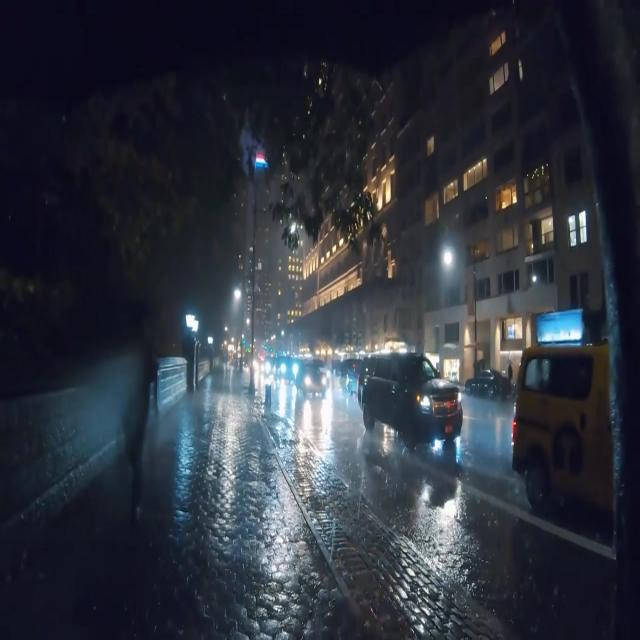Car: (355, 350, 462, 448), (465, 365, 509, 397), (292, 361, 325, 394)
